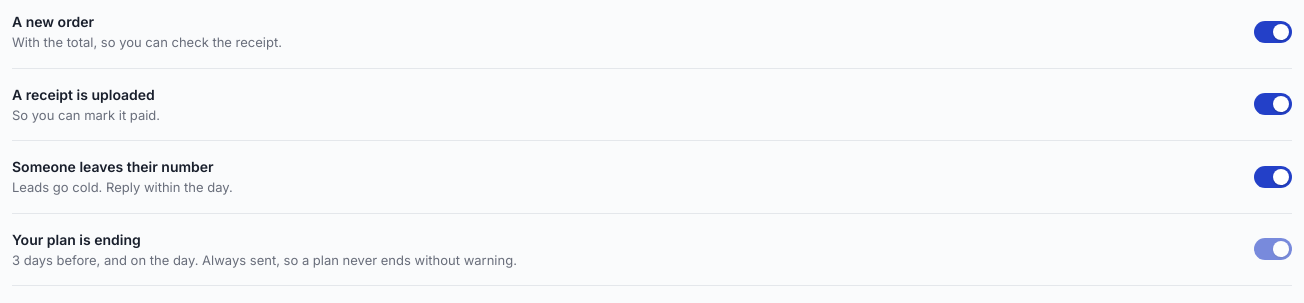
Scenario: NotifyForm › turns the order email off on its own, and says orders still wait in Orders
Click the switch named "Email me when a new order comes in" at (1273, 32), box [1254,21,1292,43]
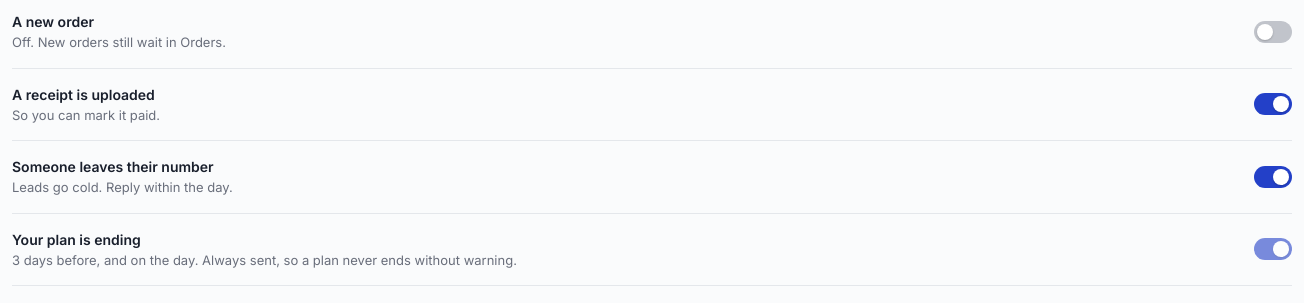
Expected: the text "Off. New orders still wait in Orders." is shown, [12,34,226,50]
